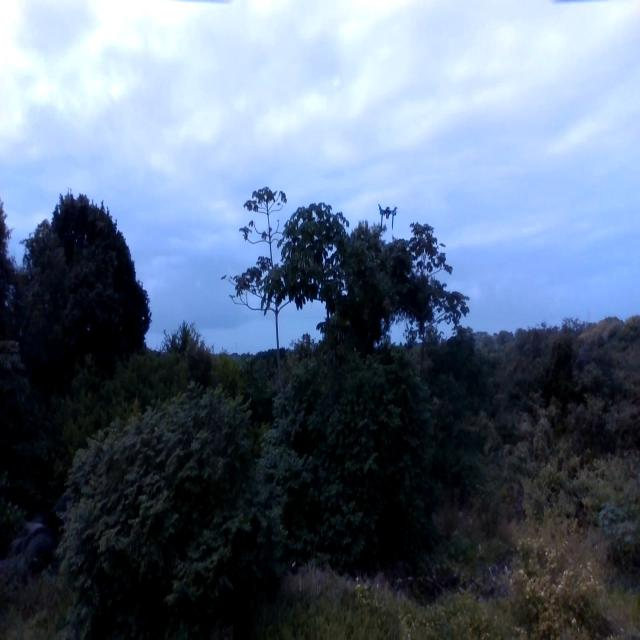-uav-: (372, 196, 403, 235)
